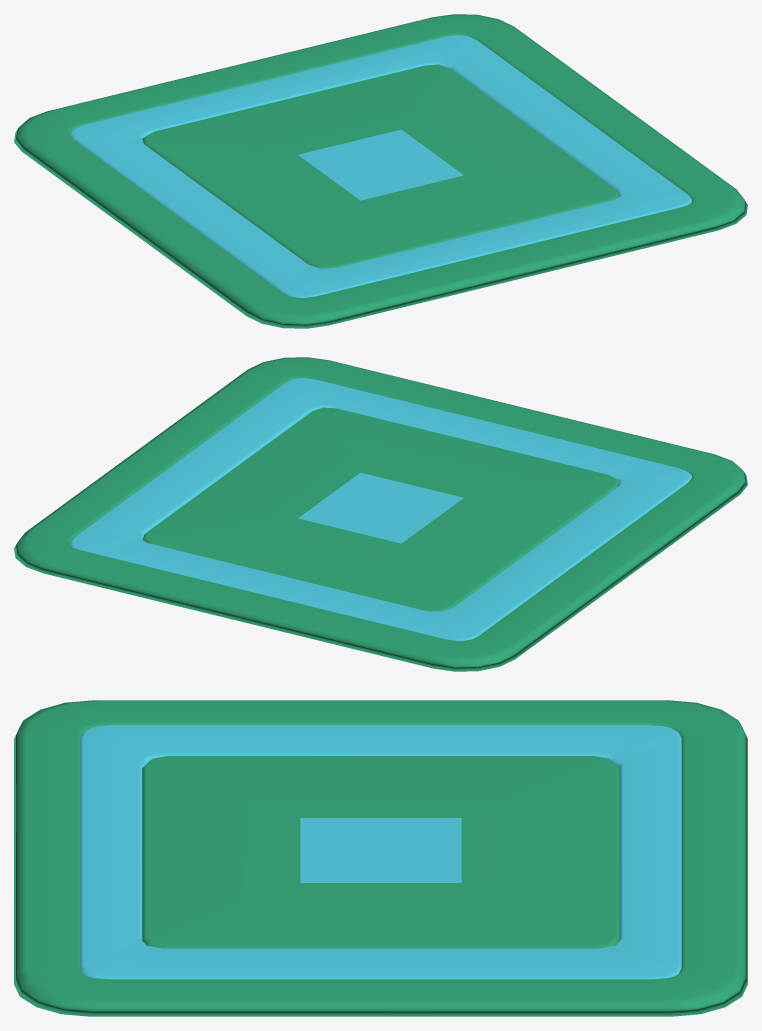
File: Carpet_02.glb
3 views of the same model, one above another, from view 1: azimuth 30°, elevation 25°; view 2: azimuth 150°, elevation 25°; view 3: azimuth 270°, elevation 25° (orthographic). The views are drawn at different scales.
Parts seen in each view (by area): view 1: Carpet_02; view 2: Carpet_02; view 3: Carpet_02.
Part boxes in pixels (left/top/right/bottom): Carpet_02: left=14, top=14, right=747, bottom=328; Carpet_02: left=14, top=357, right=747, bottom=671; Carpet_02: left=14, top=700, right=747, bottom=1016.
Bounding box in the file's own units: 1.8 × 0.03 × 1.8.
Materials: 1 (1 with a texture image).
